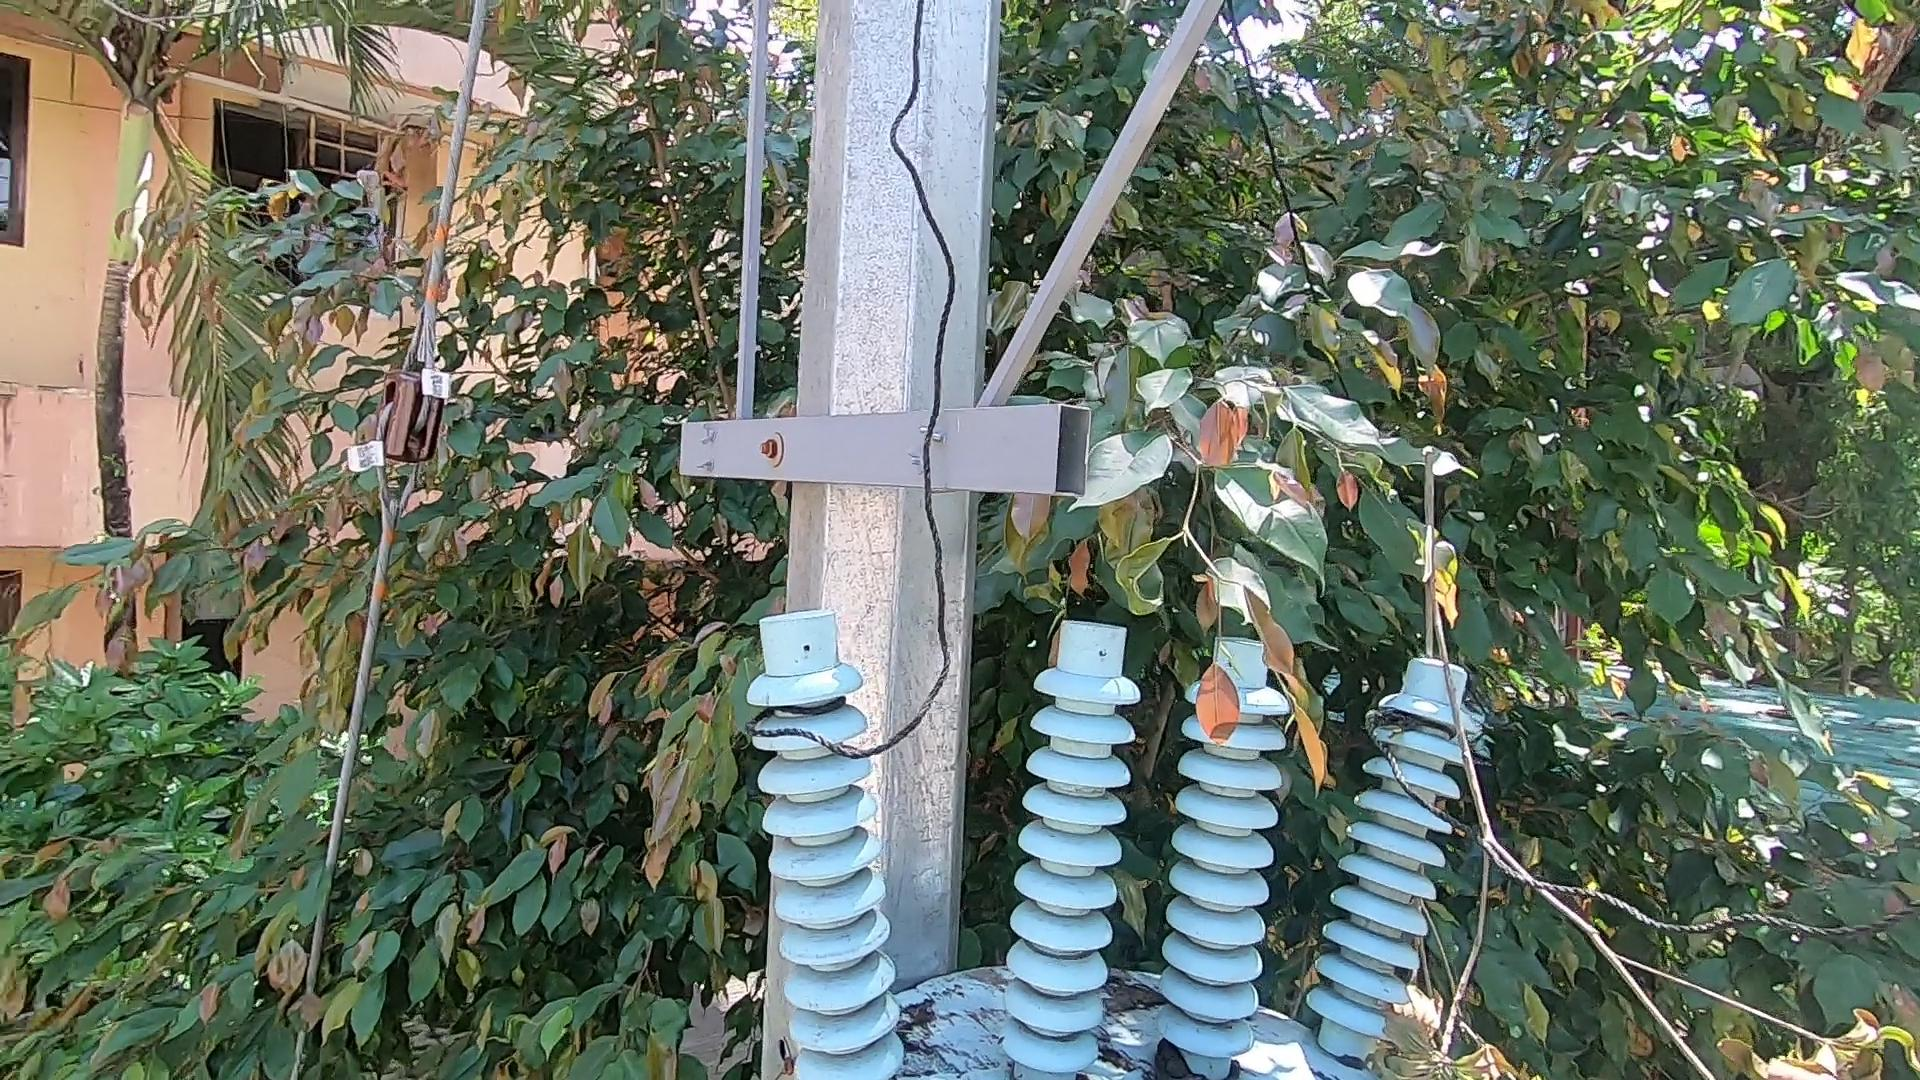branch with leaves: (1369, 419, 1916, 1080)
leaf: (1154, 1042, 1204, 1080), (1217, 1058, 1255, 1077)
